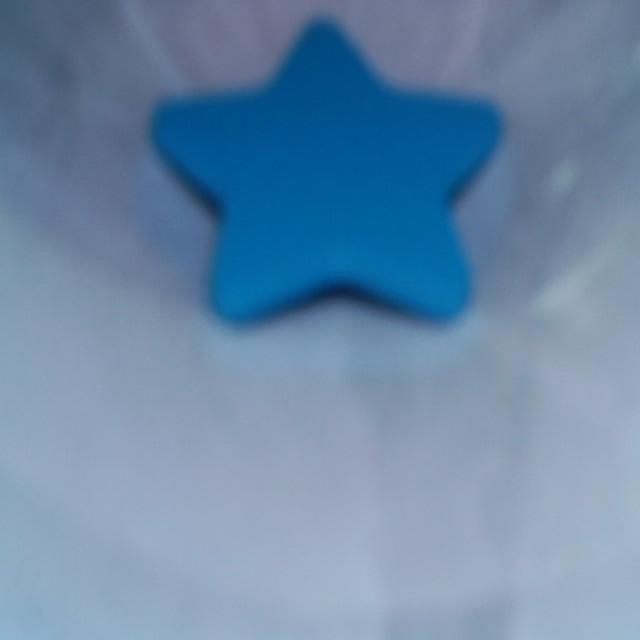star: (152, 23, 500, 317)
